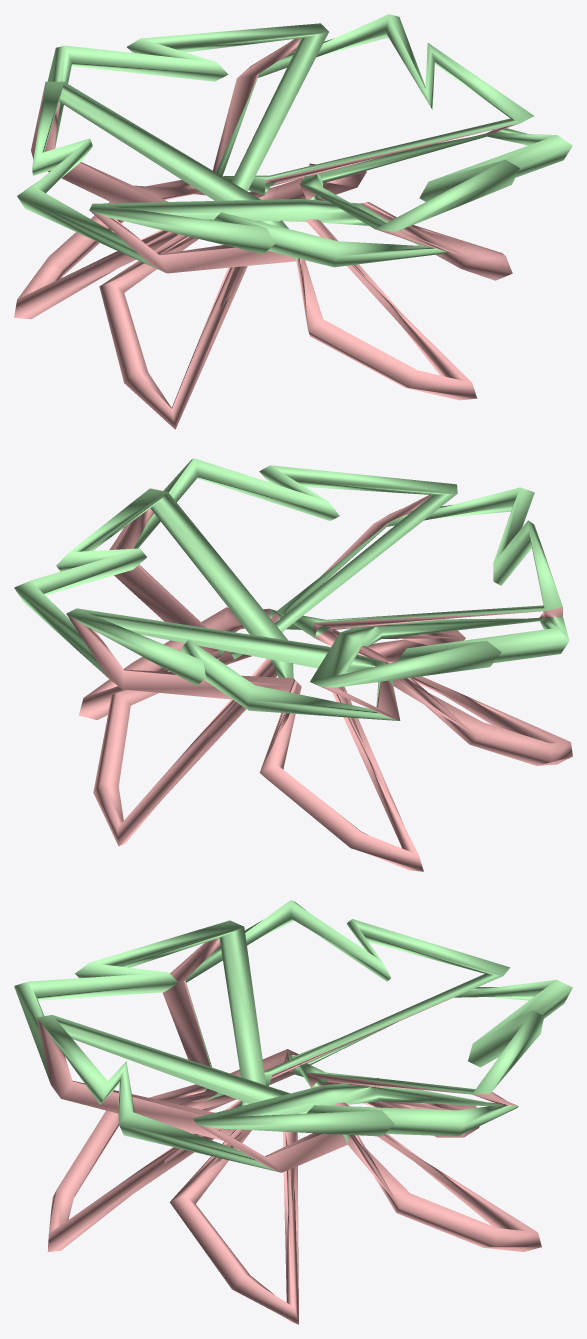
The model's file is MapH.glb.
3 renders of one model, top to bottom at view 1: azimuth 30°, elevation 25°; view 2: azimuth 150°, elevation 25°; view 3: azimuth 270°, elevation 25°, orthographic.
Parts seen in each view (by area): view 1: RegularMap_H; view 2: RegularMap_H; view 3: RegularMap_H.
Part boxes in pixels (x1,y1,x2,y2): RegularMap_H: (14, 14, 572, 429); RegularMap_H: (14, 458, 572, 871); RegularMap_H: (14, 900, 572, 1324).
Size of the model in its own units: 3.16 by 1.28 by 3.19.
